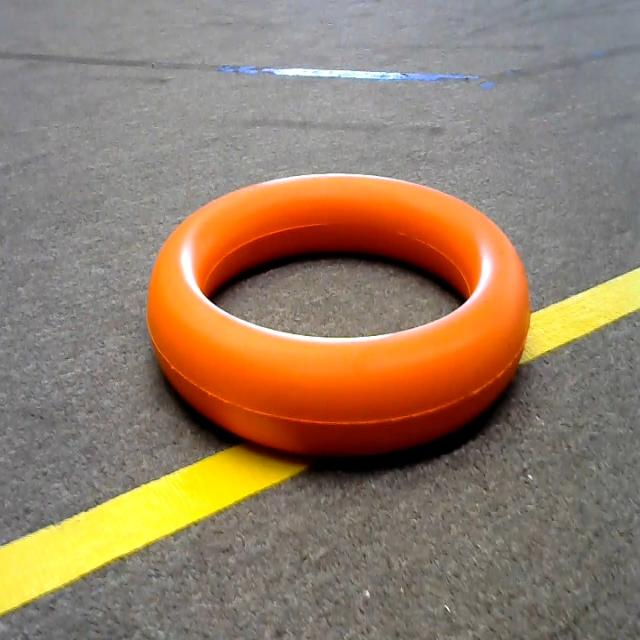note: (138, 163, 550, 466)
